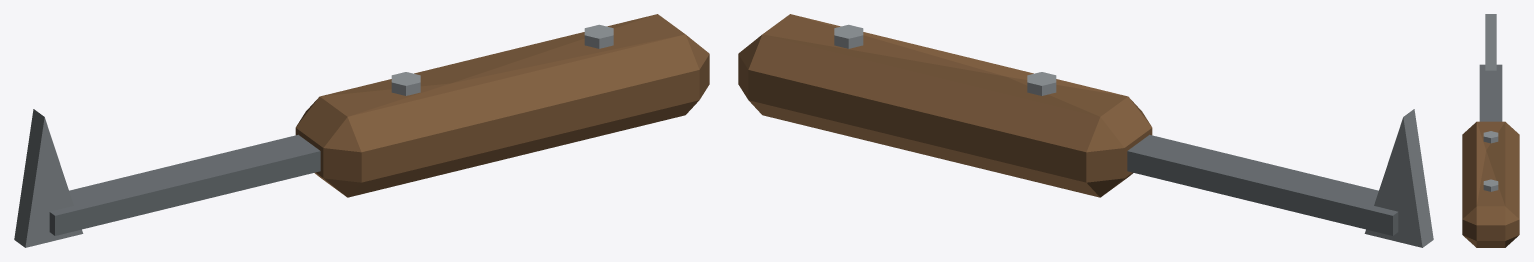
The model's file is tool_can_opener_klyuch_otkryvashka_idle.glb.
3 renders of one model, left to right at view 1: azimuth 30°, elevation 25°; view 2: azimuth 150°, elevation 25°; view 3: azimuth 270°, elevation 25°, orthographic. The views are drawn at different scales.
Parts seen in each view (by area): view 1: tool_can_opener_klyuch_otkryvashka_idle; view 2: tool_can_opener_klyuch_otkryvashka_idle; view 3: tool_can_opener_klyuch_otkryvashka_idle.
Part boxes in pixels (<box>): tool_can_opener_klyuch_otkryvashka_idle: <box>14,14,709,247</box>; tool_can_opener_klyuch_otkryvashka_idle: <box>738,14,1433,247</box>; tool_can_opener_klyuch_otkryvashka_idle: <box>1462,14,1519,247</box>.
Size of the model in its own units: 0.14 by 0.029 by 0.02.
Materials: 1 (1 with a texture image).
